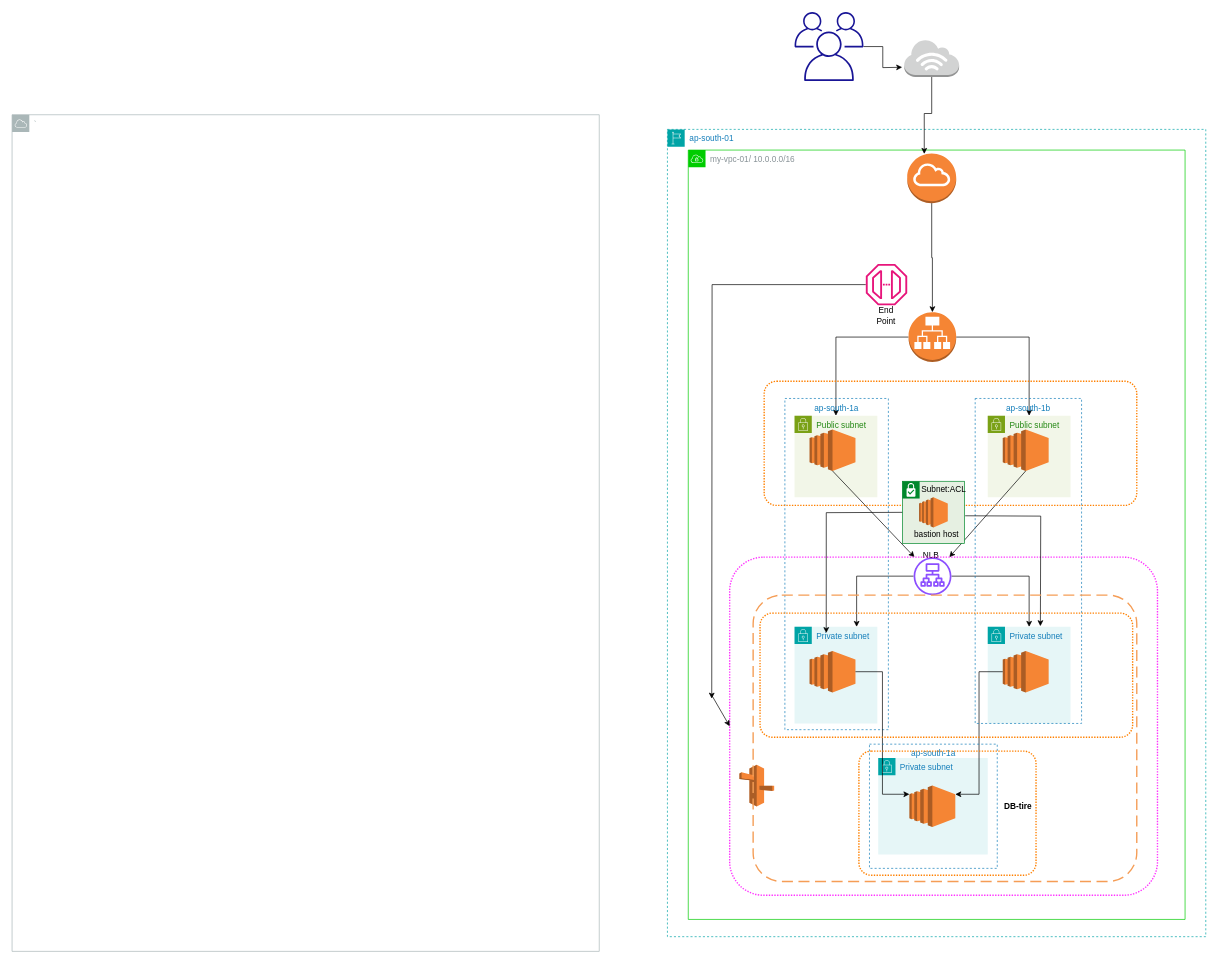
The diagram is 1218 pixels wide and 963 high, and some of its shapes have lost their labels. Here are the shapes that lost their labels. From the top down, the centre of each, then its label:
At (x=828, y=46): "users".
At (x=931, y=178): "IG".
At (x=932, y=337): "ALB".
At (x=950, y=443): "web-tire".
At (x=946, y=675): "app-tire".
At (x=756, y=785): "route 53".
